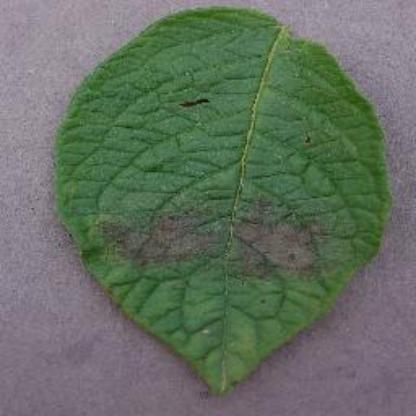Late-Blight: (50, 6, 392, 392)
